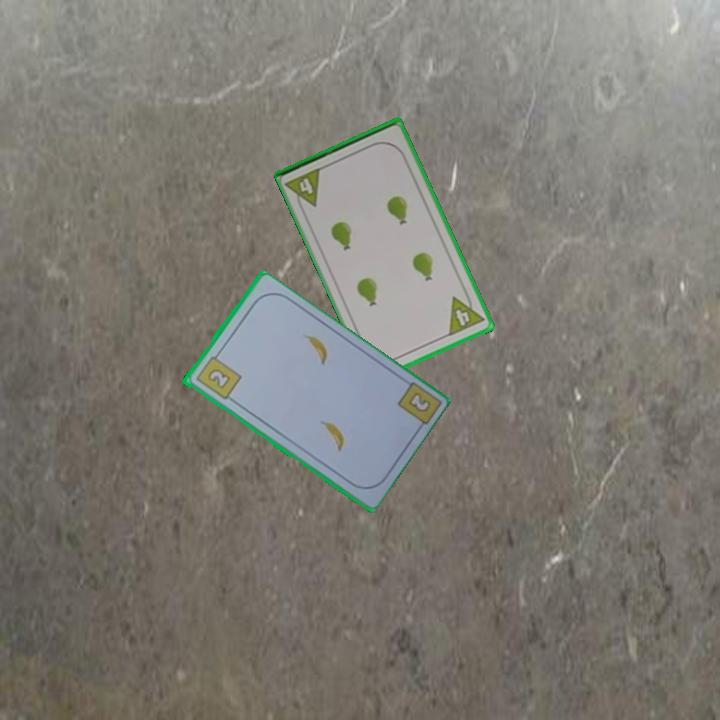2b: (192, 349, 244, 402), (407, 391, 431, 413)
4p: (282, 164, 325, 214), (445, 288, 487, 339)
